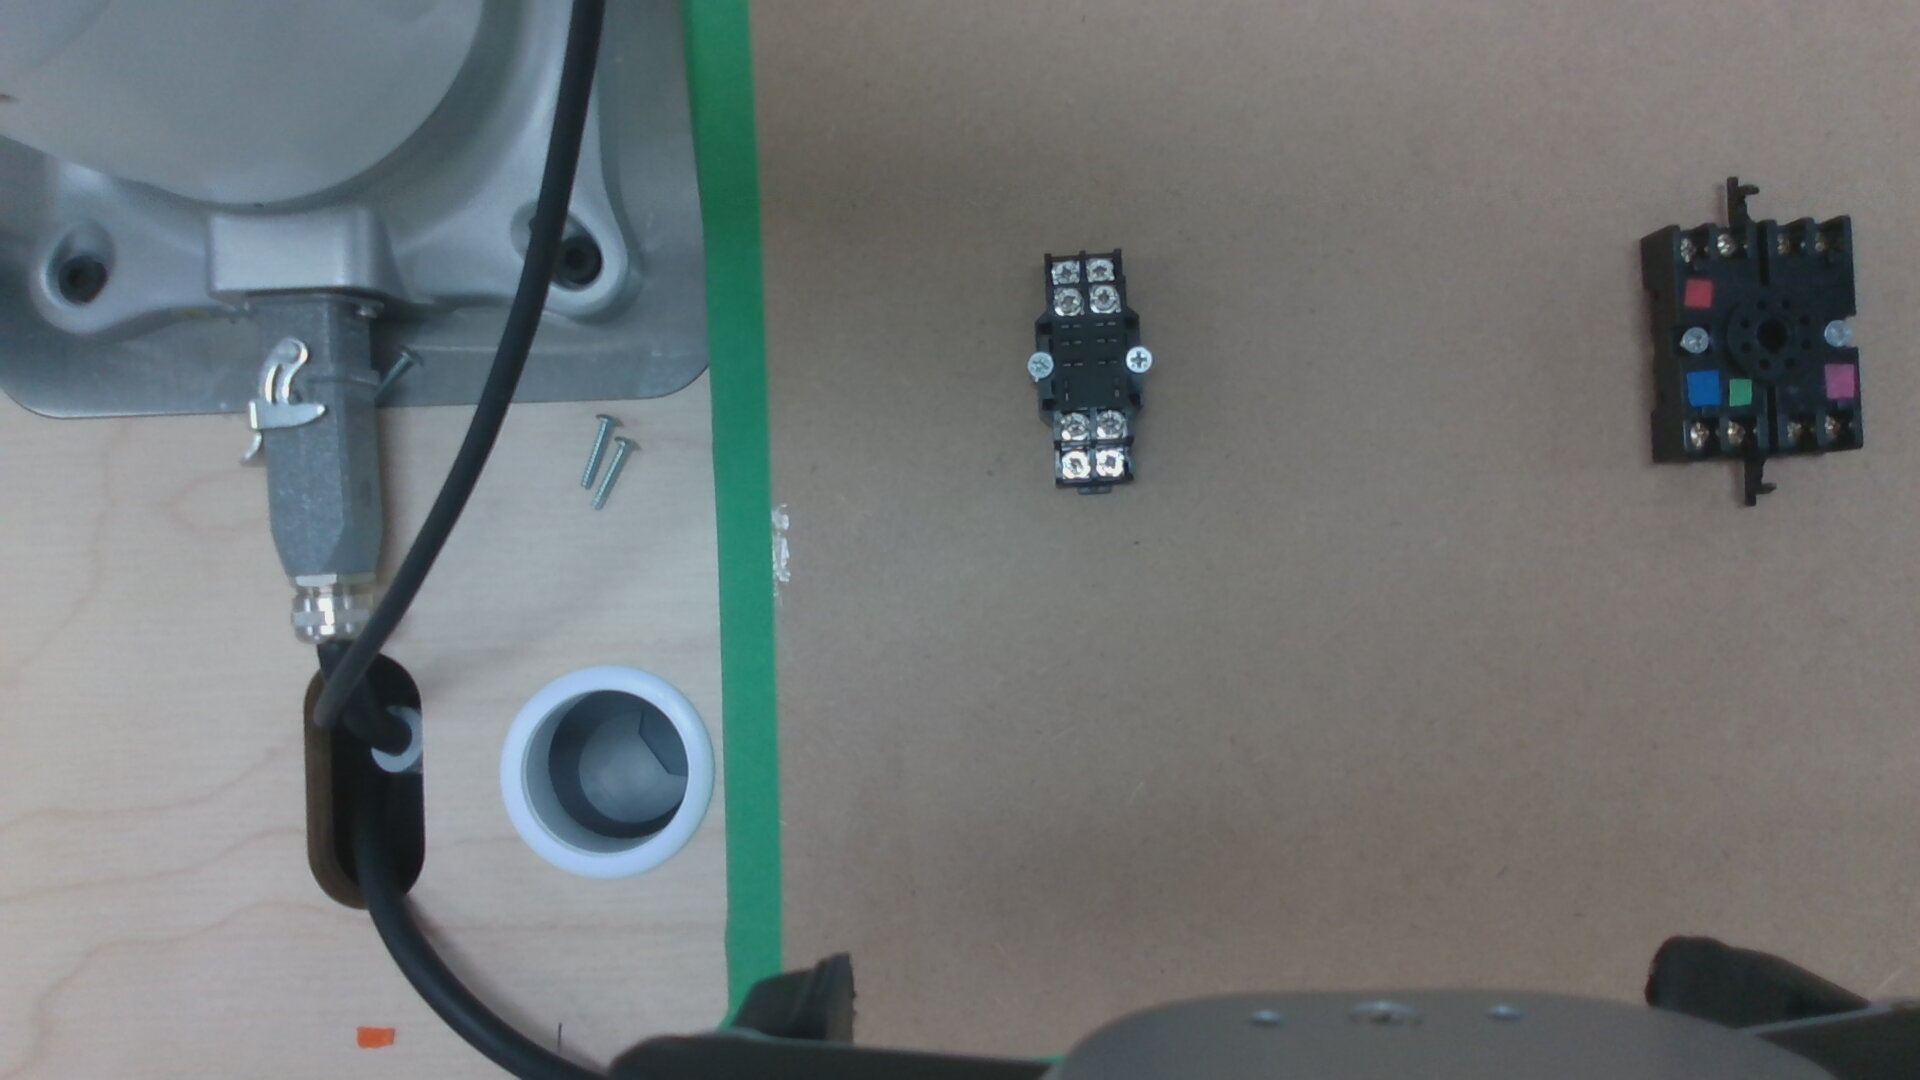relay 3: (1087, 260, 1116, 280)
relay 4: (1051, 262, 1077, 282)
relay 5: (1097, 446, 1124, 475)
relay 6: (1060, 451, 1088, 476)
relay 7: (1097, 410, 1124, 436)
relay 8: (1059, 413, 1087, 436)
